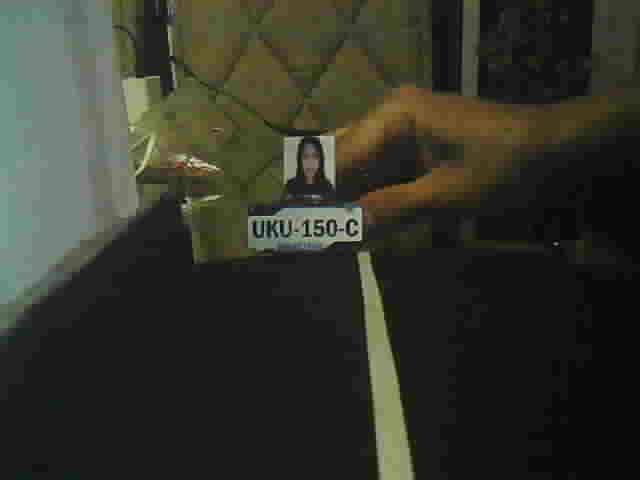PLACA: (246, 202, 364, 254)
ROSTRO: (284, 137, 336, 190)
